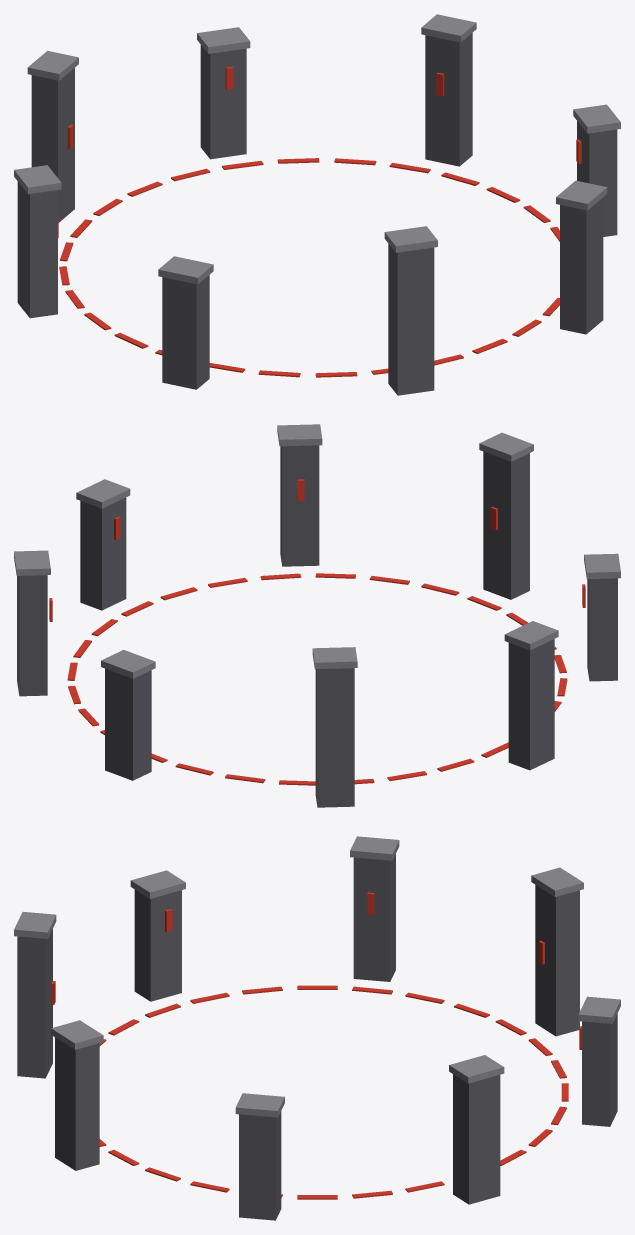
File: arena.obj
3 views of the same model, one above another, from view 1: azimuth 30°, elevation 25°; view 2: azimuth 150°, elevation 25°; view 3: azimuth 270°, elevation 25° (orthographic). The views are drawn at different scales.
Visible parts, largest first — view 1: arena; view 2: arena; view 3: arena.
Part boxes in pixels (x1,y1,x2,y2): arena: [14, 14, 620, 395]; arena: [14, 424, 620, 807]; arena: [14, 836, 620, 1220].
Size of the model in its own units: 21.08 by 5.65 by 21.08.
